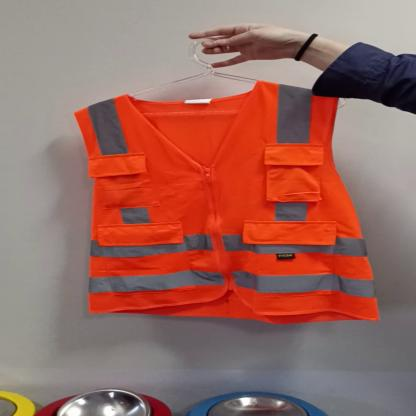colete: (67, 79, 388, 326)
